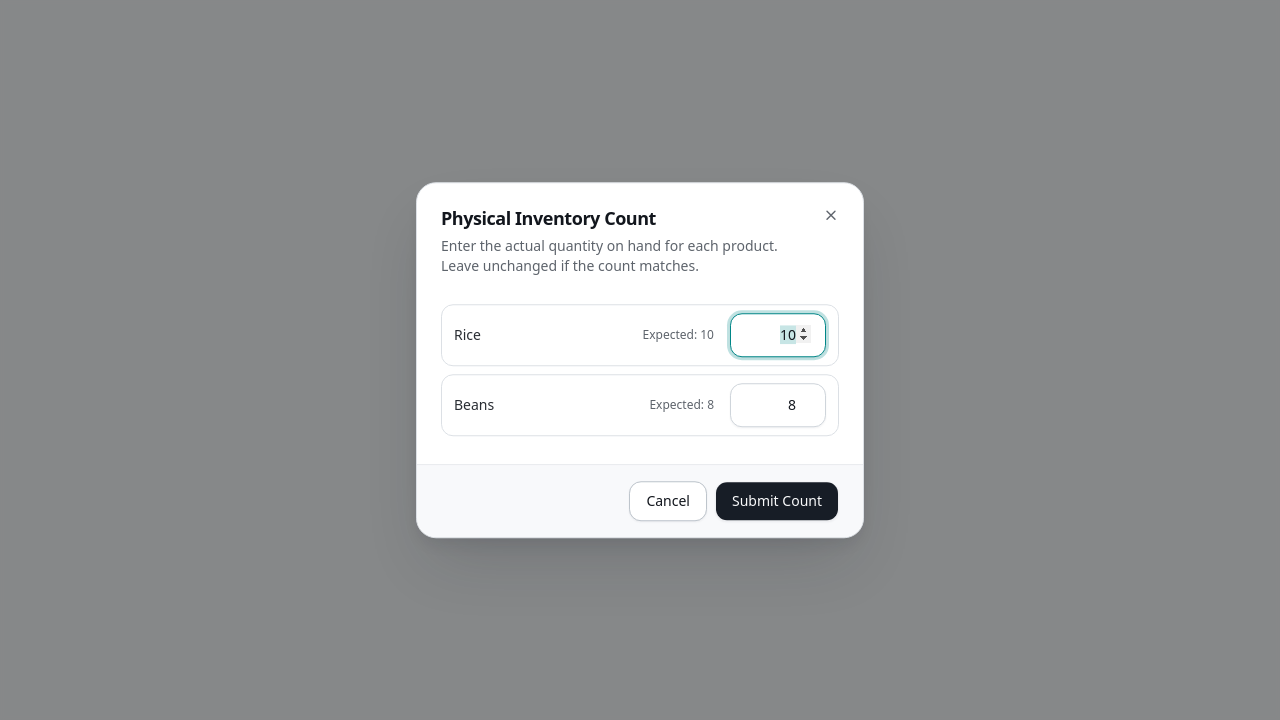
Test: PhysicalCountForm — reportedRows handling › one adjusted plus one reported row: shows the dedicated message and still advances to the report
The image size is (1280, 720).
Replace the text in the number field labelled "Rice" with "7" at (778, 335), box [730,313,826,357]
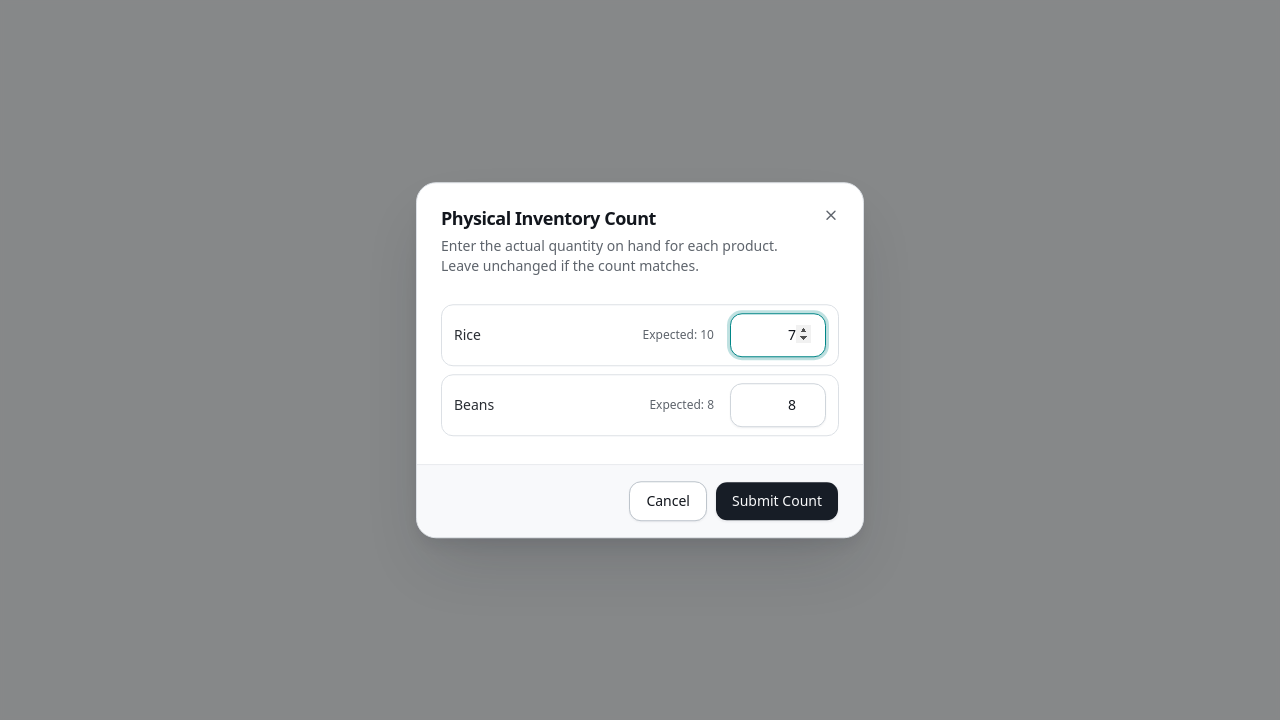
Replace the text in the number field labelled "Beans" with "5" at (778, 405), box [730,383,826,427]
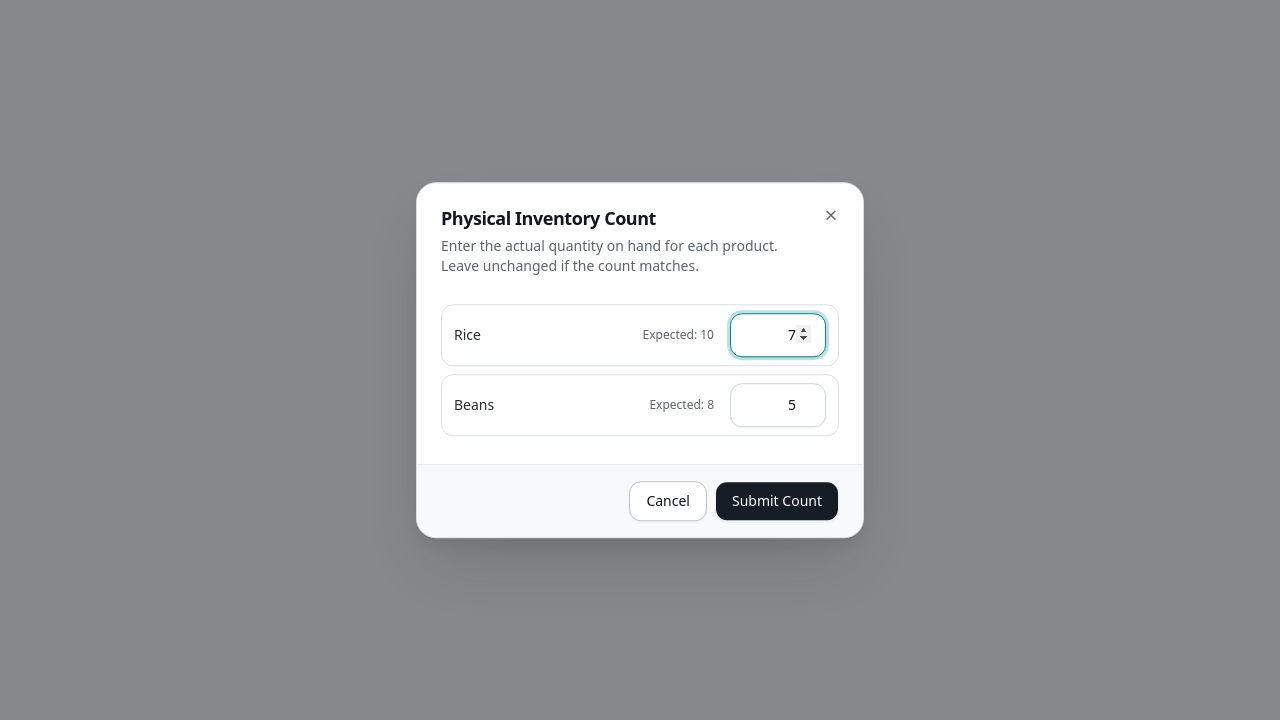
Click the button with test id "physical-count-submit" at (777, 501), box [715,481,839,521]
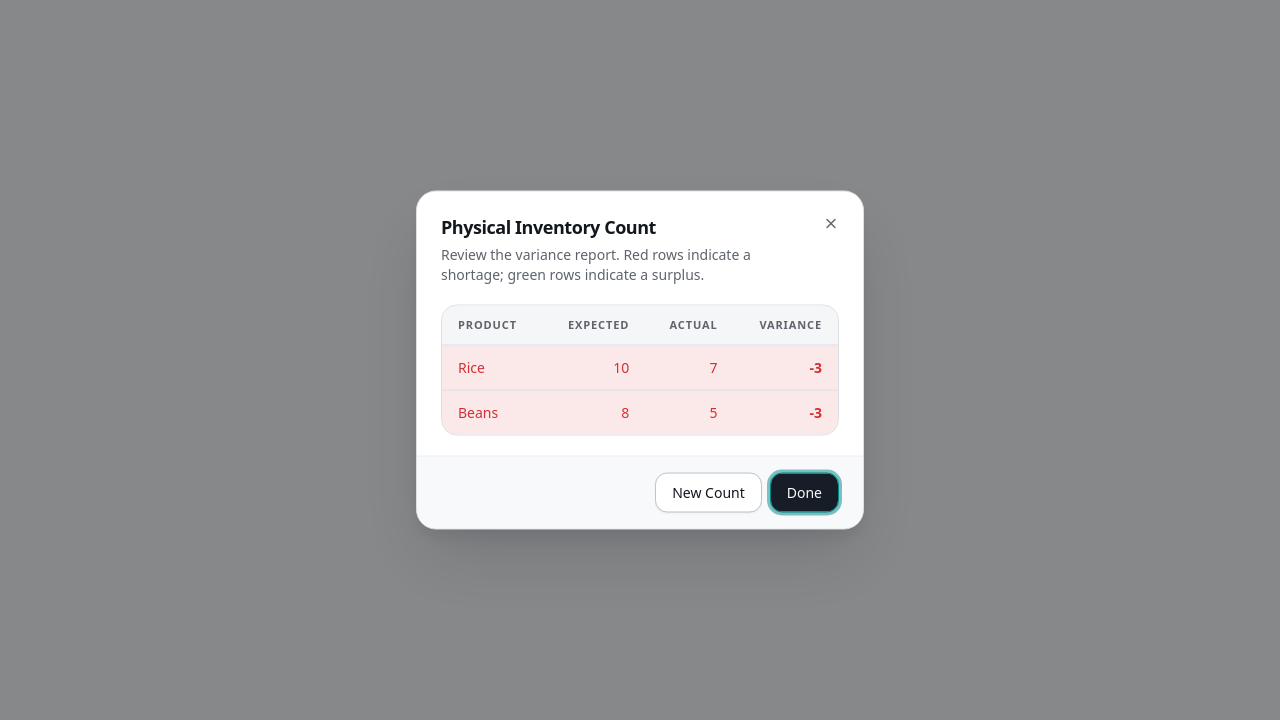
Result: the text "Review the variance report" is shown at [441,244,751,283]
